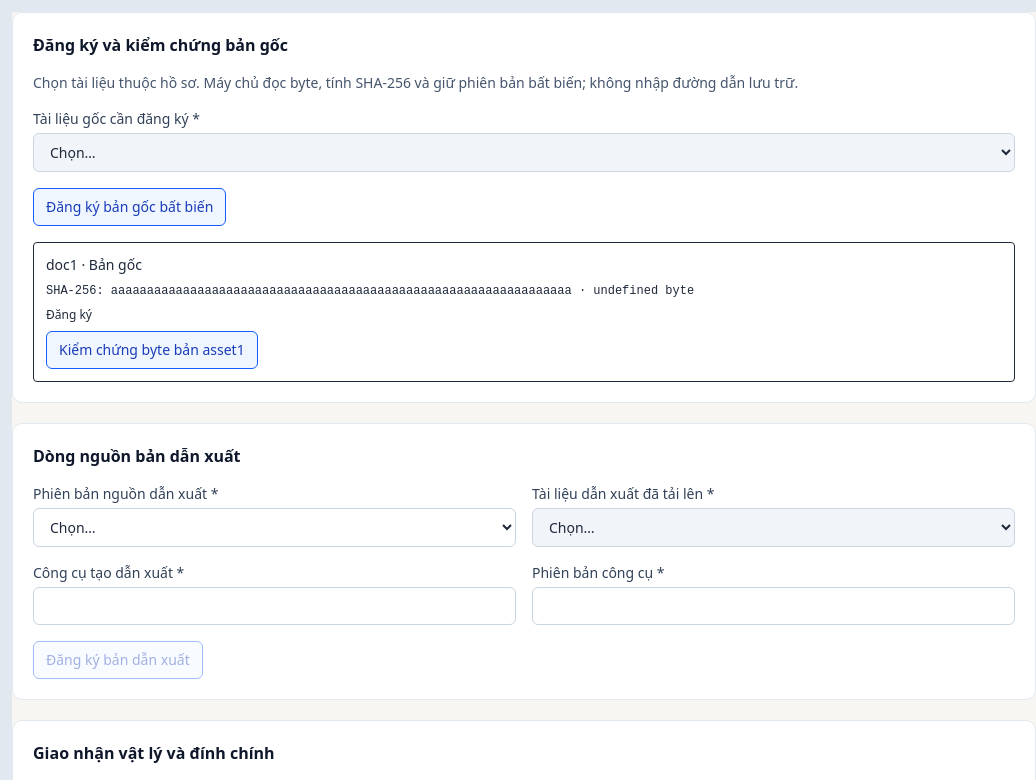
Test case: registers a derivative using the exact immutable parent SHA and verifies original bytes
The image size is (1036, 780).
Select "asset1" in the dropdown labelled "Phiên bản nguồn dẫn xuất" at (274, 528), box x1=33 y1=508 x2=516 y2=547
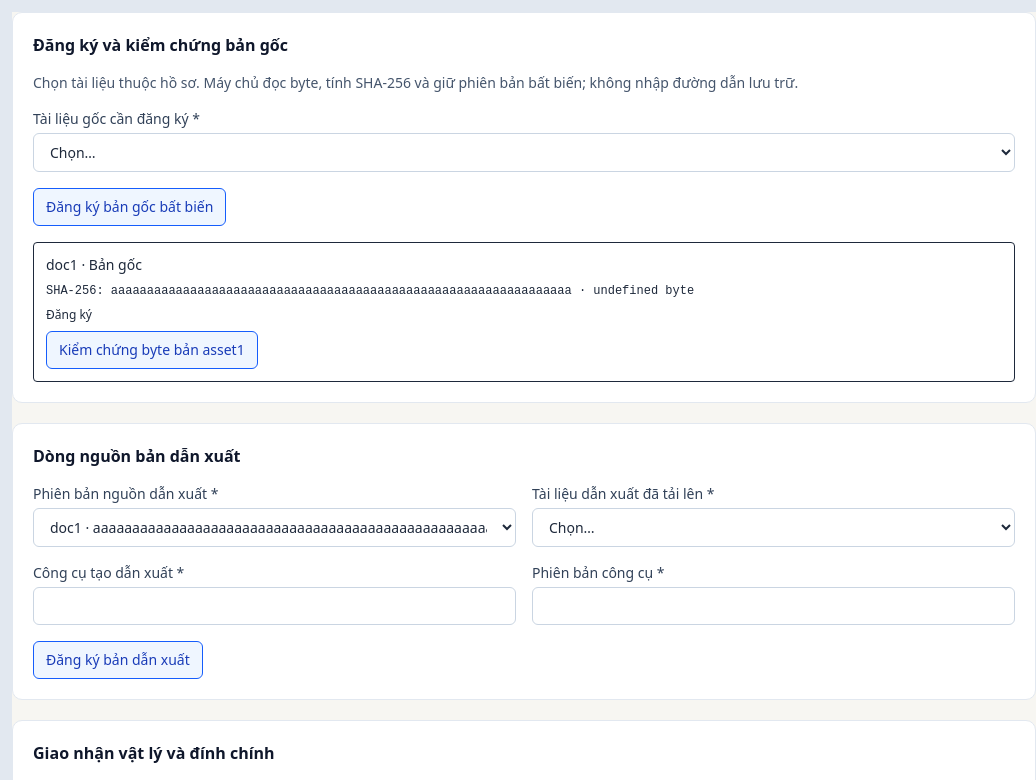
Select "Document 1" in the dropdown labelled "Tài liệu dẫn xuất đã tải lên" at (774, 528), box x1=532 y1=508 x2=1015 y2=547
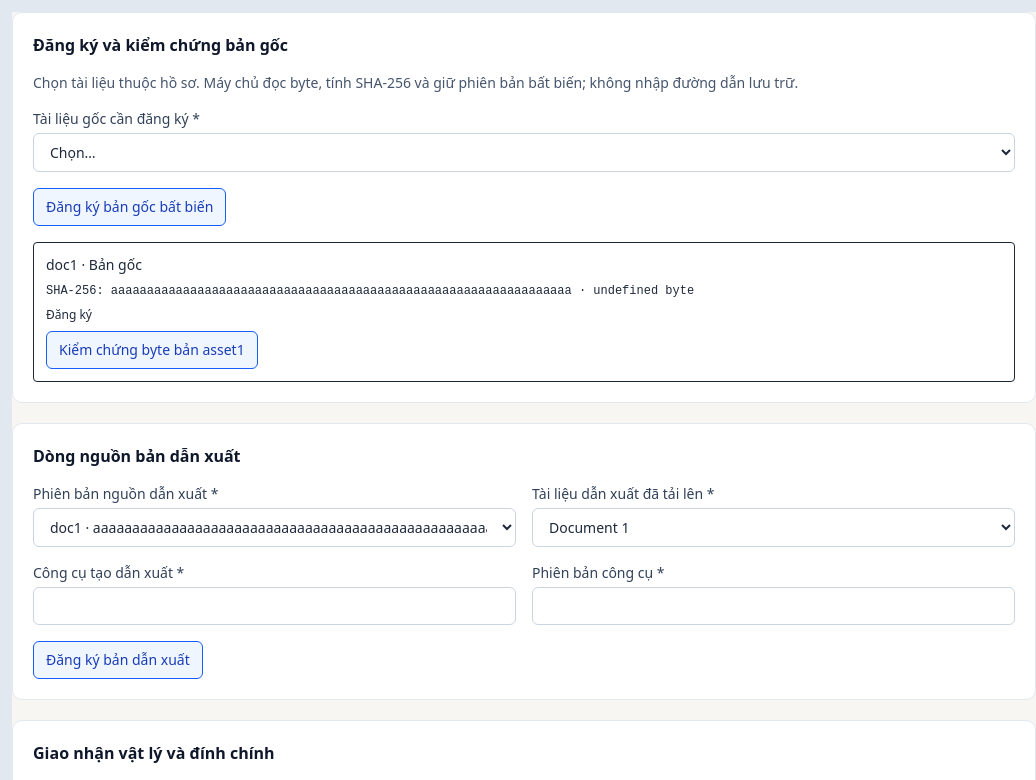
Type "Redaction tool" into the field labelled "Công cụ tạo dẫn xuất" at (274, 606), box x1=33 y1=587 x2=516 y2=625
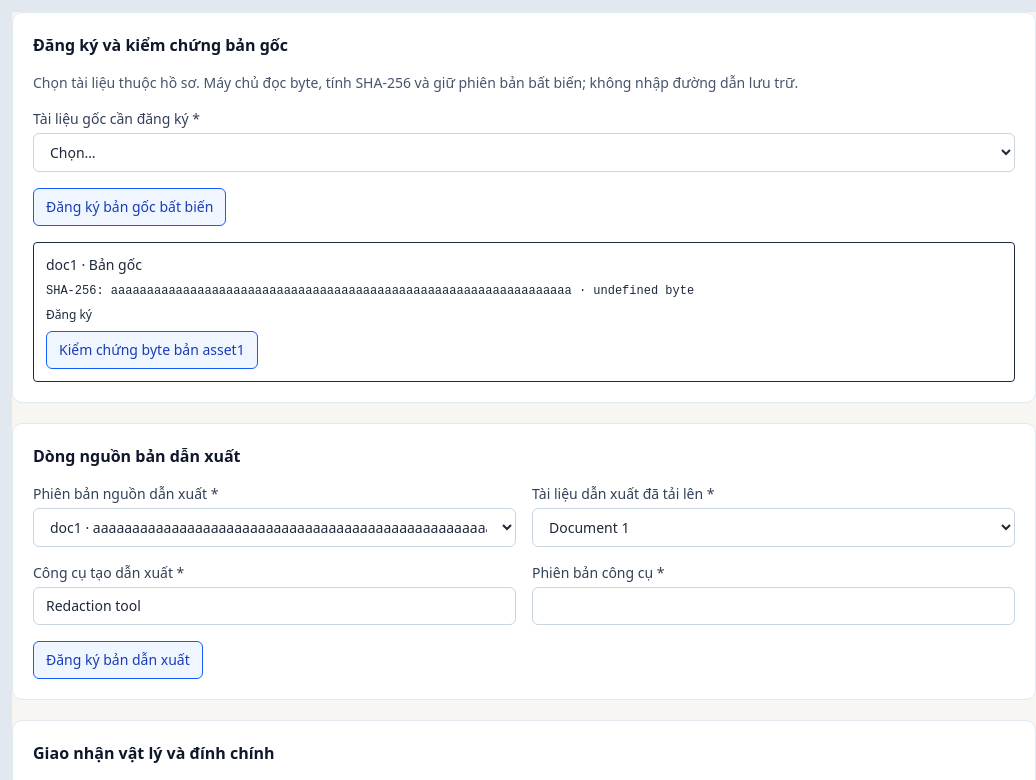
Type "1.0" into the field labelled "Phiên bản công cụ" at (774, 606), box x1=532 y1=587 x2=1015 y2=625
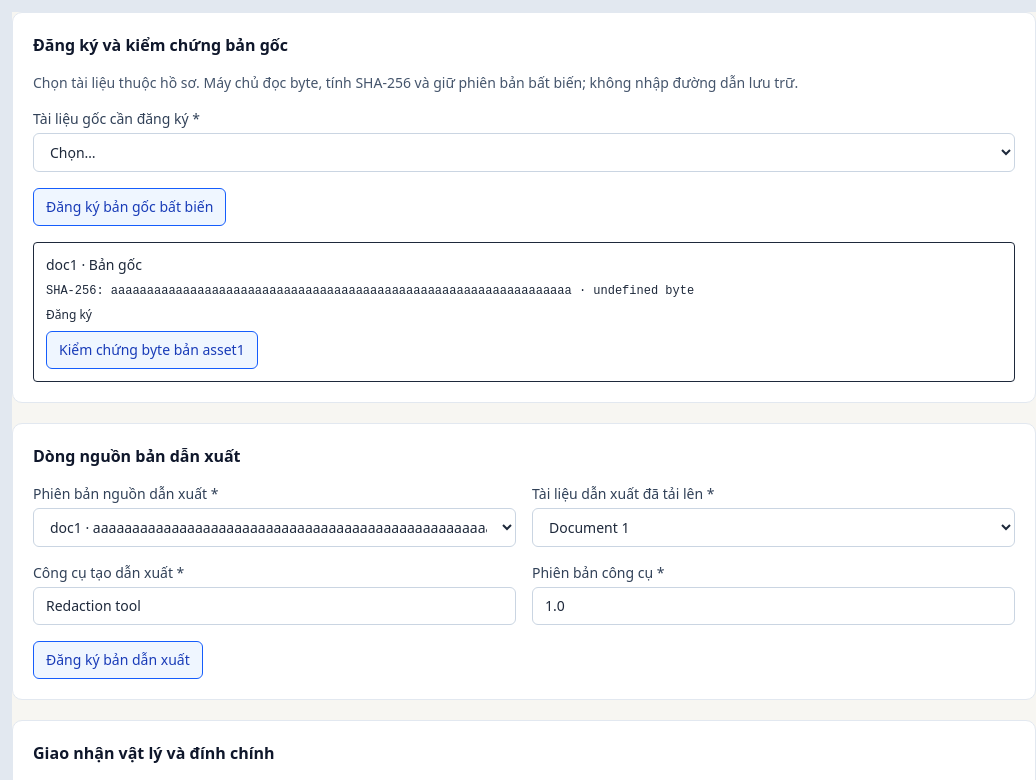
Click the button "Đăng ký bản dẫn xuất" at (118, 660), box x1=33 y1=641 x2=203 y2=679
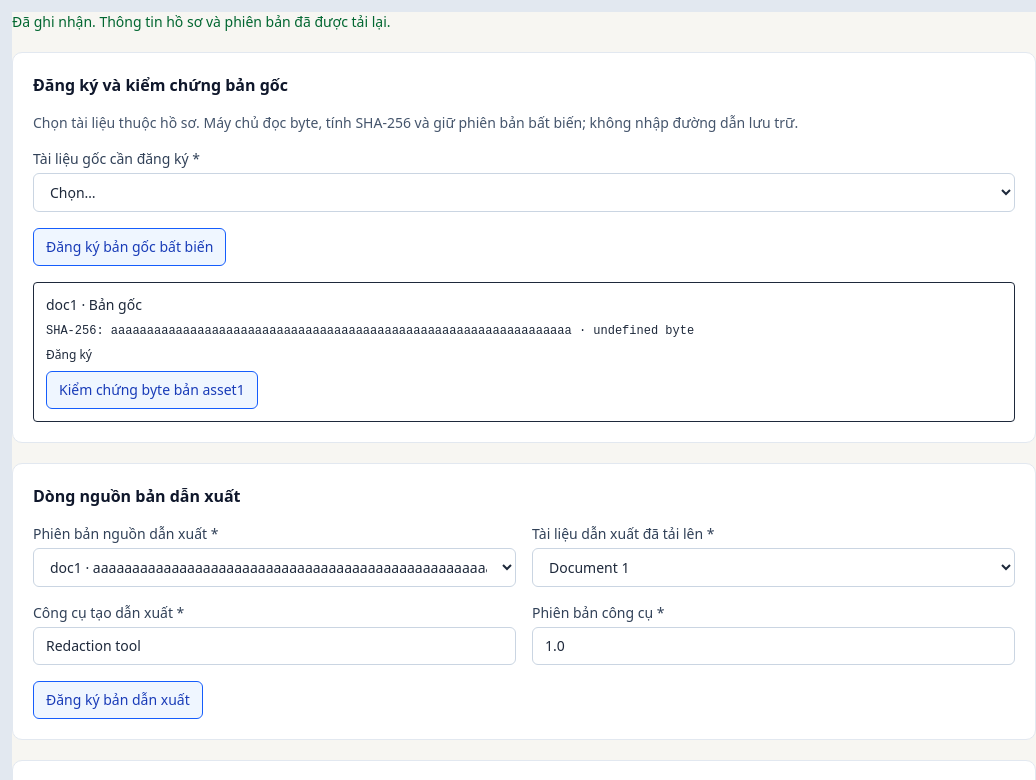
Click the button "Kiểm chứng byte bản asset1" at (152, 390), box x1=46 y1=371 x2=258 y2=409
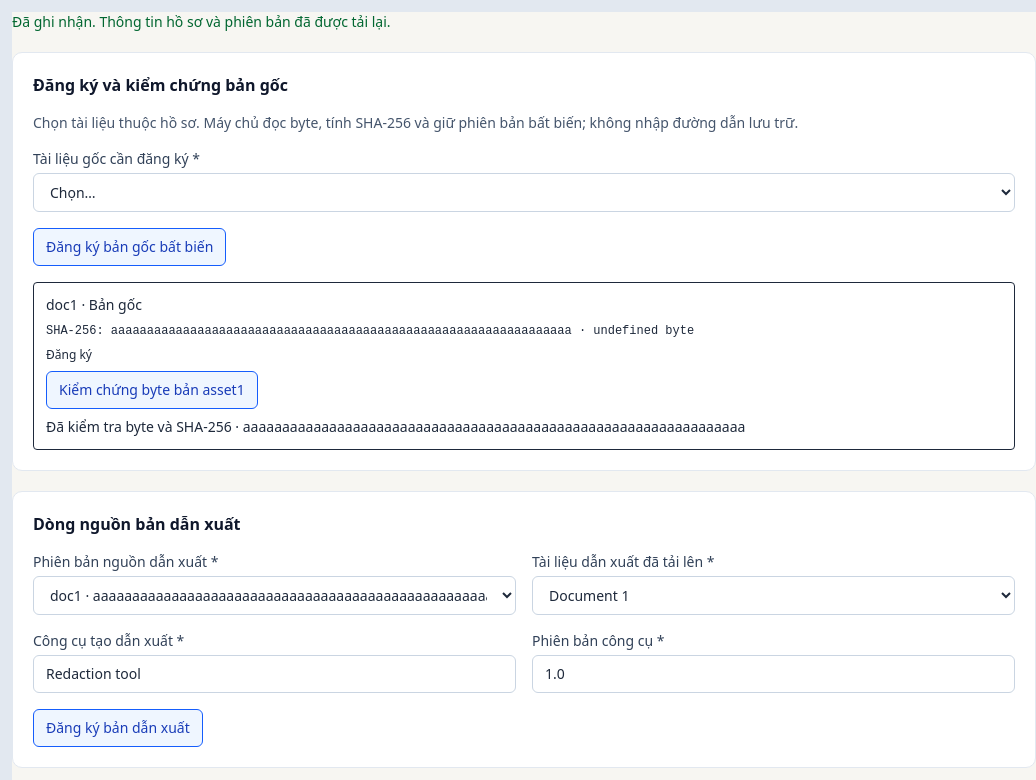
Expected: the text "Đã kiểm tra byte và SHA" is shown, x1=46 y1=417 x2=745 y2=436
